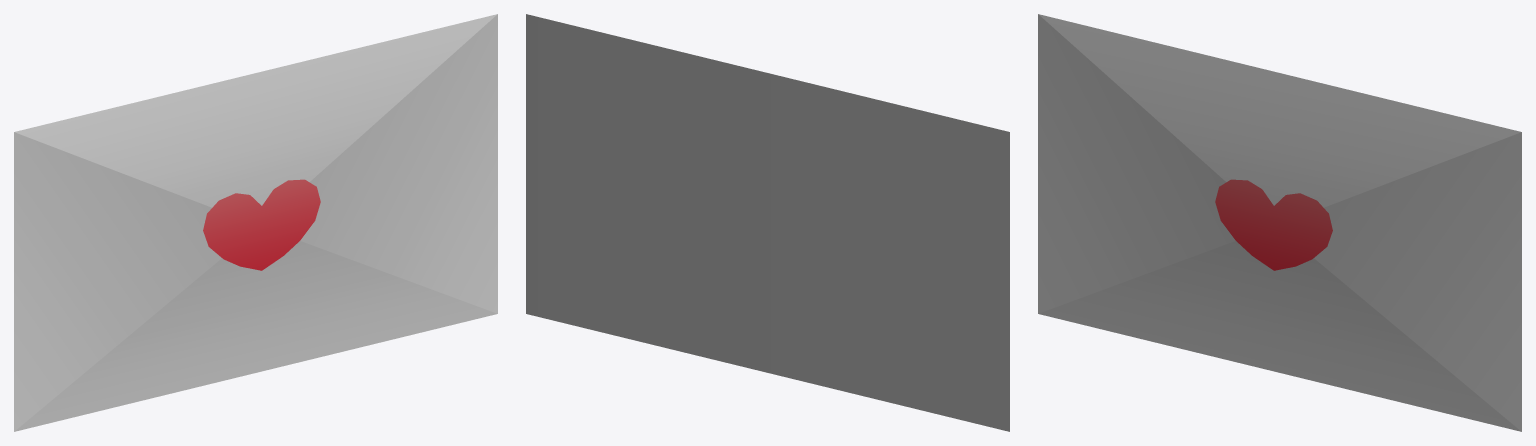
The model's file is CRalentines_letter_001.FBX.
The picture shows the model from 3 angles, left to right: view 1: azimuth 30°, elevation 25°; view 2: azimuth 150°, elevation 25°; view 3: azimuth 330°, elevation 25°; orthographic projection.
Visible parts, largest first — view 1: crvalentines_letter_001; view 2: crvalentines_letter_001; view 3: crvalentines_letter_001.
Boxes of the visible parts, x1,y1,x2,y2 form: crvalentines_letter_001: [14, 14, 497, 431]; crvalentines_letter_001: [526, 14, 1009, 431]; crvalentines_letter_001: [1038, 14, 1521, 431].
Bounding box in the file's own units: 24.36 × 14.43 × 0.518.
Materials: 1 (1 with a texture image).
